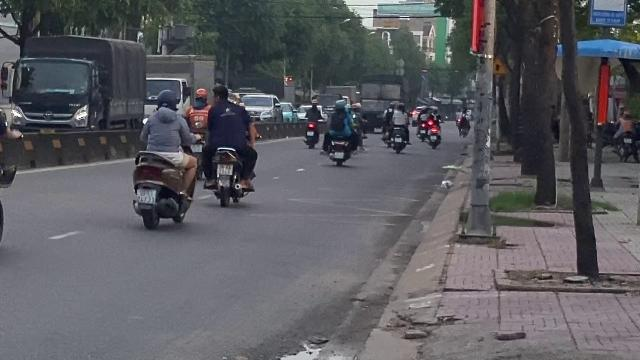helmet: (154, 88, 178, 112)
licenseplate: (138, 189, 156, 203), (216, 164, 232, 174)
motorcyclist: (128, 88, 198, 229), (200, 82, 258, 206)
nohelmet: (210, 84, 228, 105)
